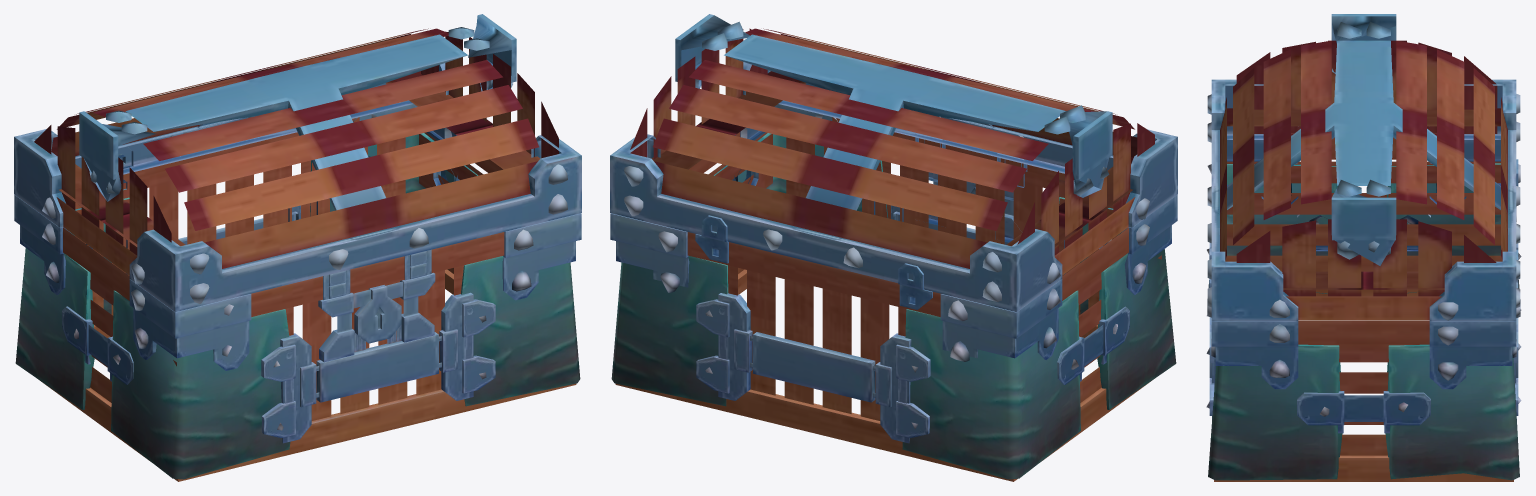
Rendered from PRP_Chest_lod.glb.
The picture shows the model from 3 angles, left to right: view 1: azimuth 30°, elevation 25°; view 2: azimuth 150°, elevation 25°; view 3: azimuth 270°, elevation 25°; orthographic projection. The views are drawn at different scales.
Parts seen in each view (by area): view 1: Top_01_LP_Top_0, Bottom_01_LP_Bottom_0, Cloth_01_LP_DetailsCloth_0; view 2: Top_01_LP_Top_0, Bottom_01_LP_Bottom_0, Cloth_01_LP_DetailsCloth_0; view 3: Top_01_LP_Top_0, Cloth_01_LP_DetailsCloth_0, Bottom_01_LP_Bottom_0.
Boxes of the visible parts, x1,y1,x2,y2 form: Top_01_LP_Top_0: [14, 14, 581, 312]; Bottom_01_LP_Bottom_0: [14, 104, 581, 481]; Cloth_01_LP_DetailsCloth_0: [15, 27, 580, 479]; Top_01_LP_Top_0: [610, 14, 1177, 312]; Bottom_01_LP_Bottom_0: [610, 104, 1177, 481]; Cloth_01_LP_DetailsCloth_0: [611, 21, 1176, 479]; Top_01_LP_Top_0: [1211, 14, 1516, 321]; Cloth_01_LP_DetailsCloth_0: [1206, 22, 1521, 480]; Bottom_01_LP_Bottom_0: [1209, 137, 1518, 481].
Bounding box in the file's own units: 0.8632 × 0.606 × 0.6019.
3 materials, 3 textured.
